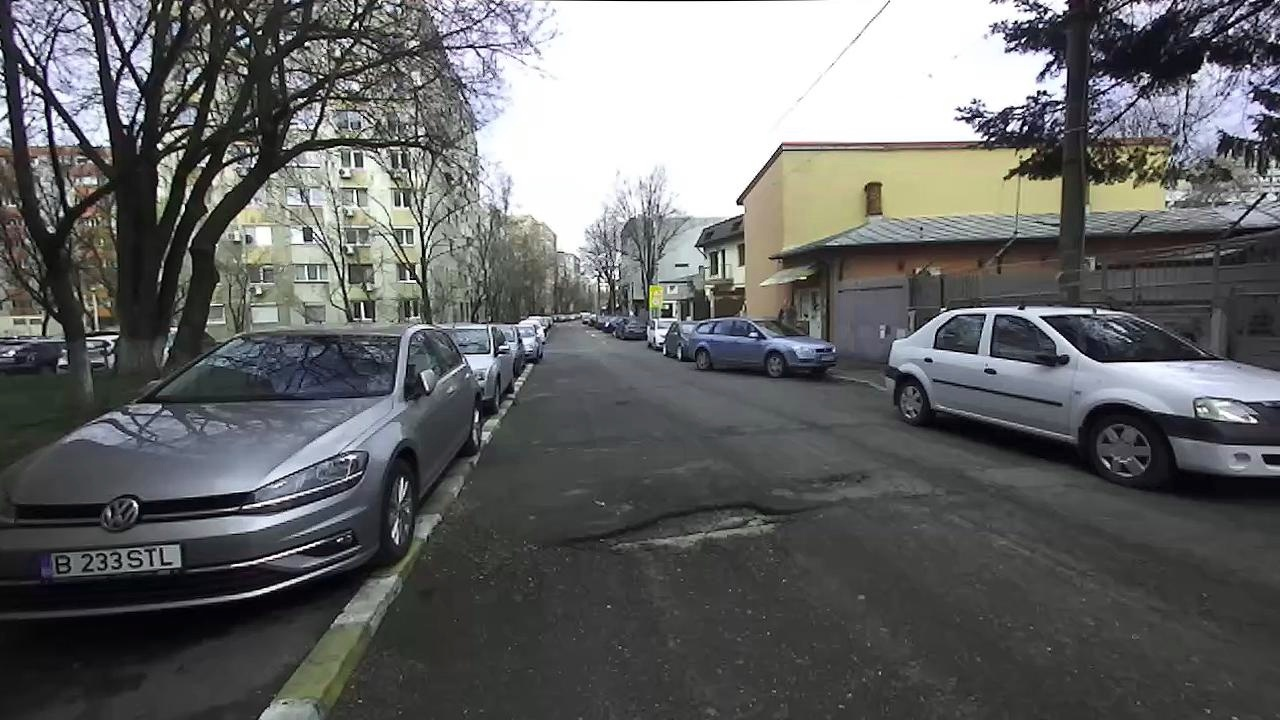pothole: (559, 497, 818, 555), (793, 465, 877, 487)
